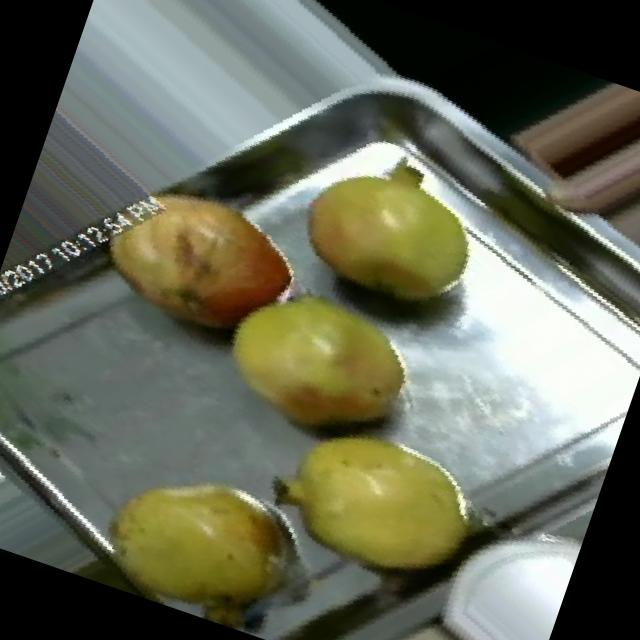fruit: (235, 377, 528, 633), (58, 132, 347, 383), (256, 108, 524, 354), (184, 241, 454, 484), (68, 411, 339, 640)
